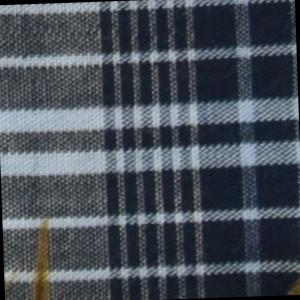Oil Stain: (3, 216, 57, 300), (280, 271, 300, 296)
